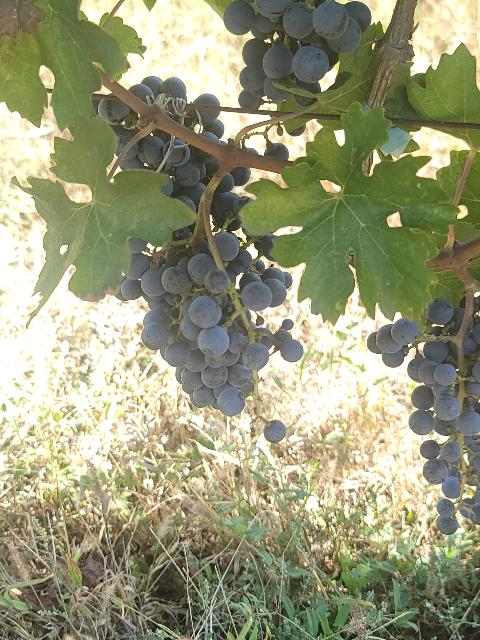grapes: (121, 210, 304, 416), (382, 298, 480, 535), (224, 0, 371, 108), (96, 96, 220, 211), (125, 78, 229, 149)
